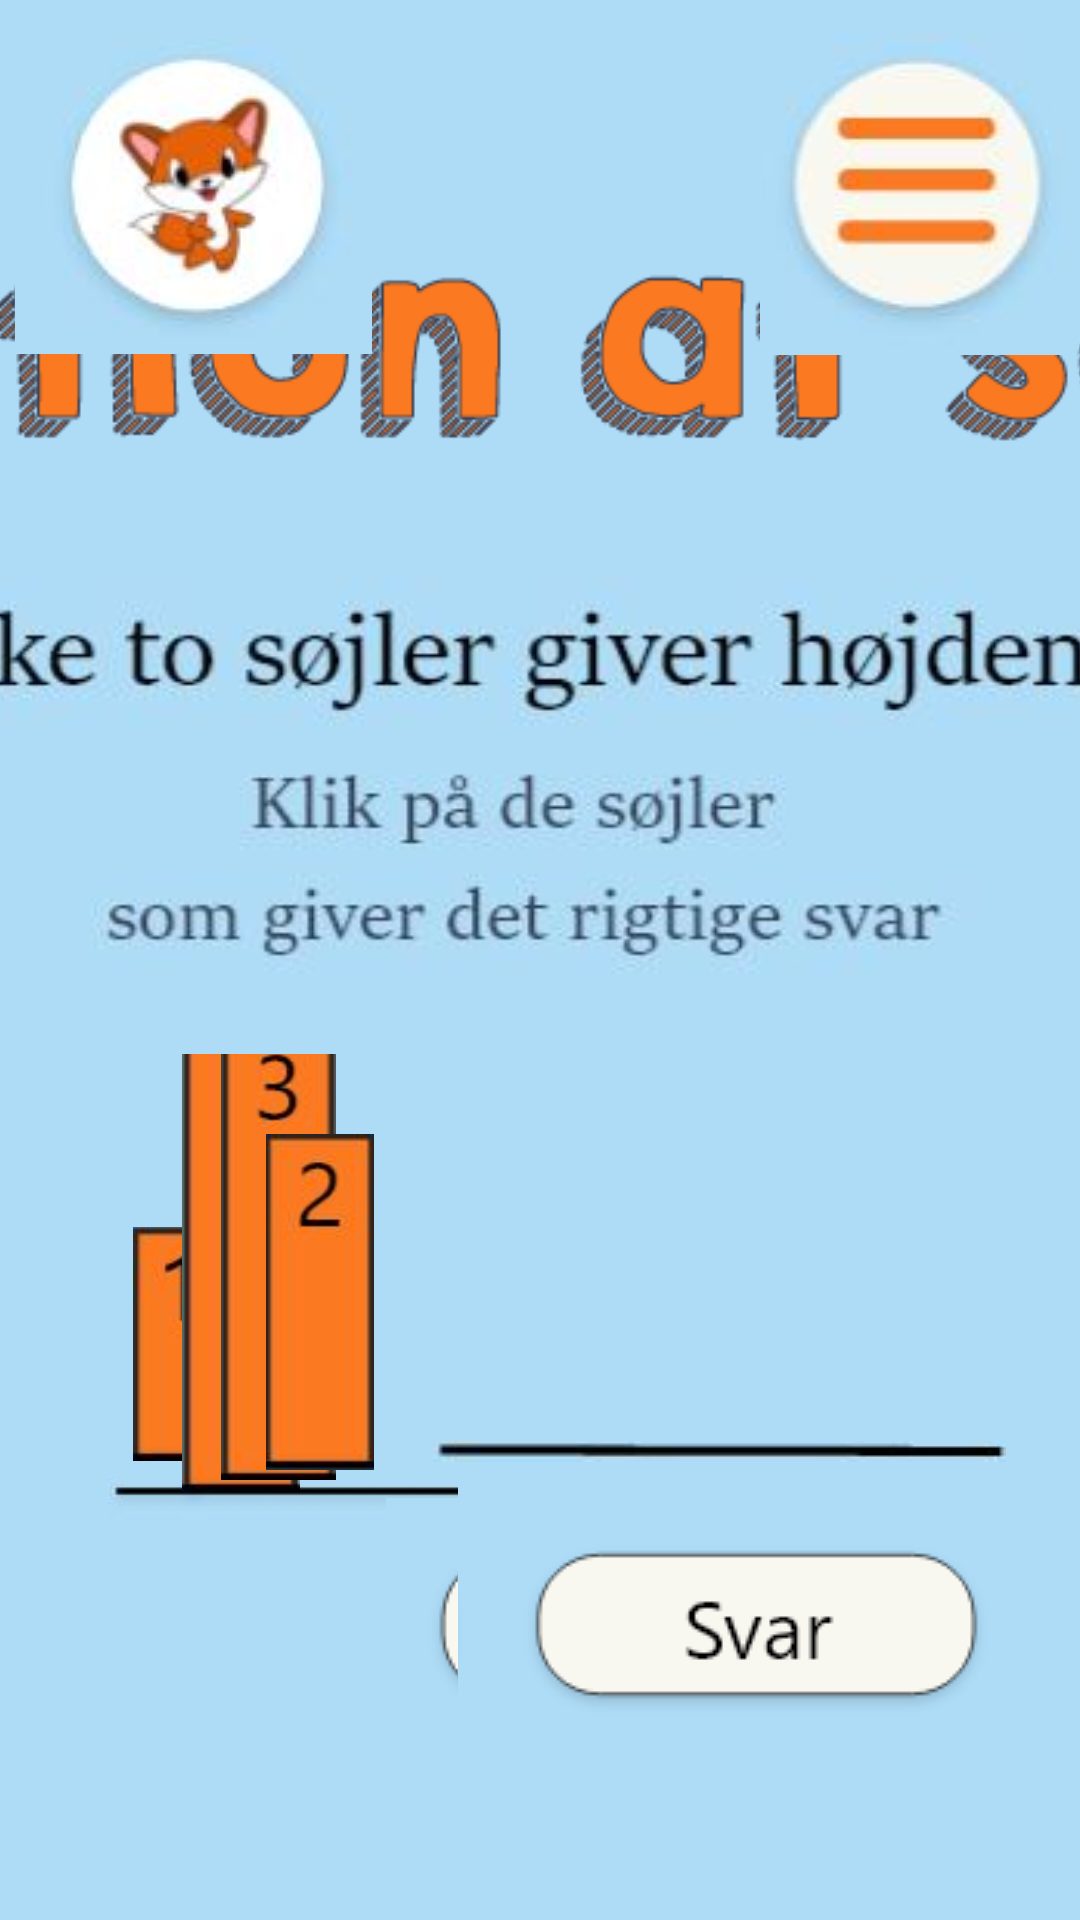

Where icons sit on this 1080×1920 app screen, as region(x1, y1, x2, y2):
dinprofil: region(69, 59, 327, 320)
menubtn: region(795, 62, 1040, 315)
